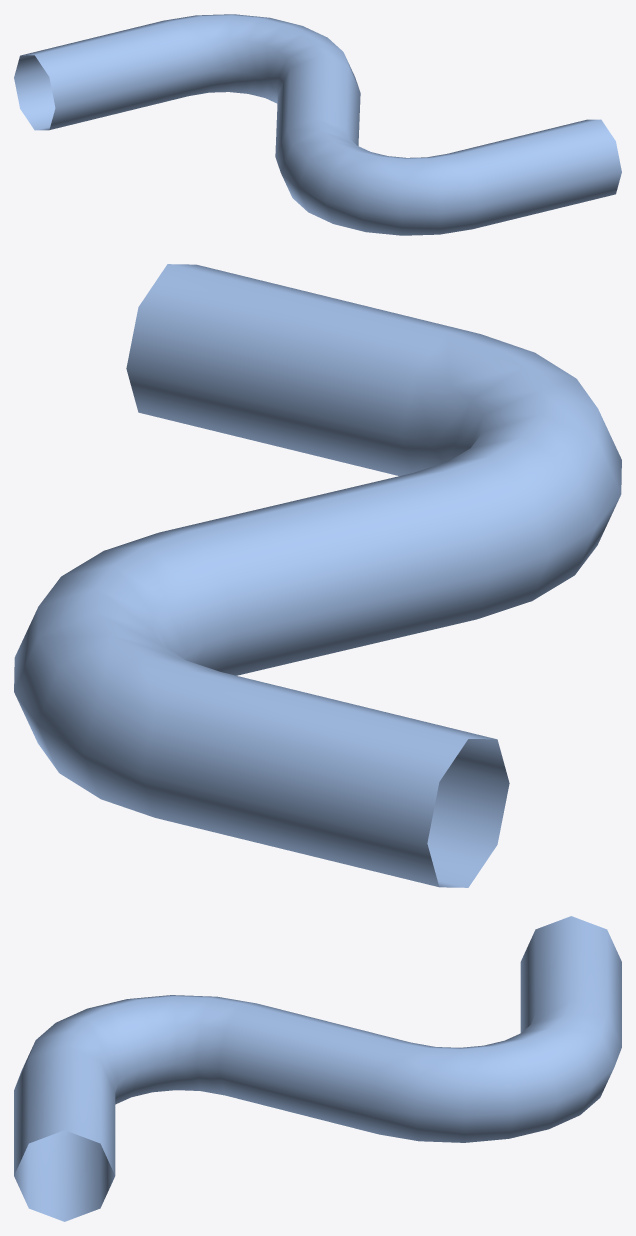
Rendered from PipeSmall_BentSpecial_01.fbx.
3 renders of one model, top to bottom at view 1: azimuth 30°, elevation 25°; view 2: azimuth 150°, elevation 25°; view 3: azimuth 270°, elevation 25°, orthographic. The views are drawn at different scales.
Parts seen in each view (by area): view 1: PipeSmall_BentSpecial_01.001; view 2: PipeSmall_BentSpecial_01.001; view 3: PipeSmall_BentSpecial_01.001.
Boxes of the visible parts, <box> form: PipeSmall_BentSpecial_01.001: <box>14,14,621,235</box>; PipeSmall_BentSpecial_01.001: <box>14,264,621,887</box>; PipeSmall_BentSpecial_01.001: <box>14,916,621,1221</box>.
Size of the model in its own units: 0.5 by 0.1 by 0.6.
